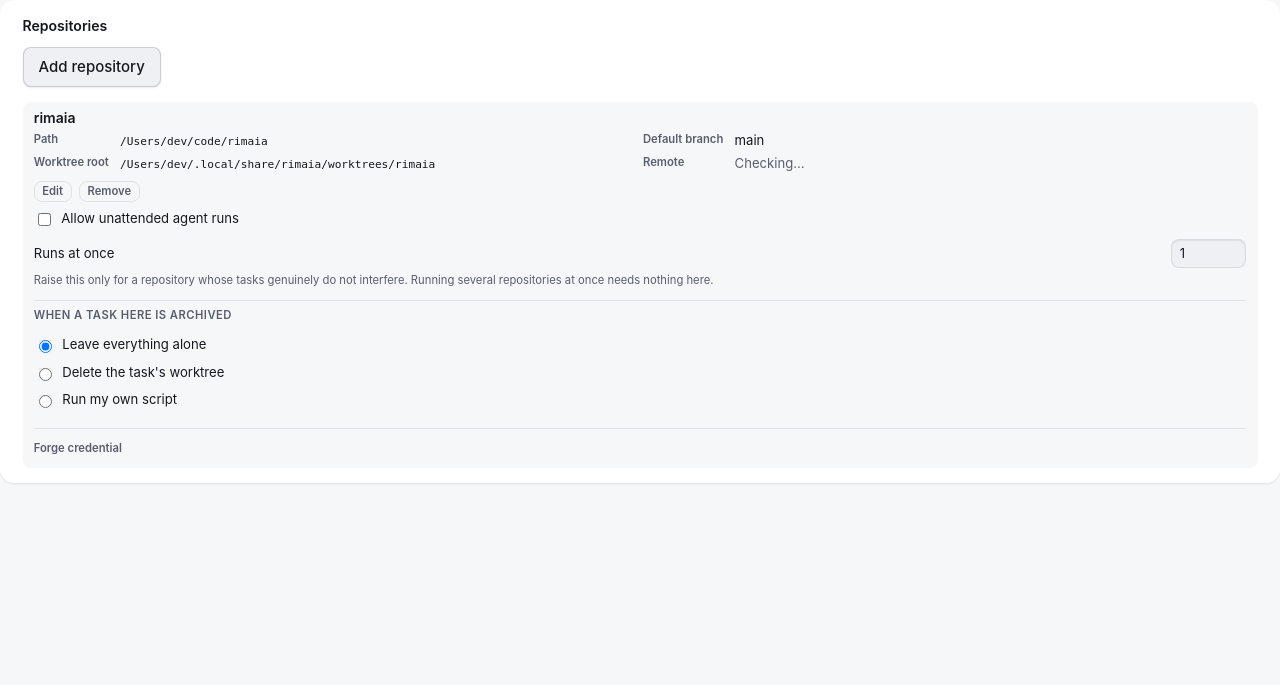
Scenario: RepositoriesSection › writes the per-repository cap and warns about what two agents in one repository share
The width and height of the screenshot is (1280, 685).
Replace the text in the number field labelled "Runs at once" with "2" at point(1209, 253), box x1=1171 y1=239 x2=1246 y2=268
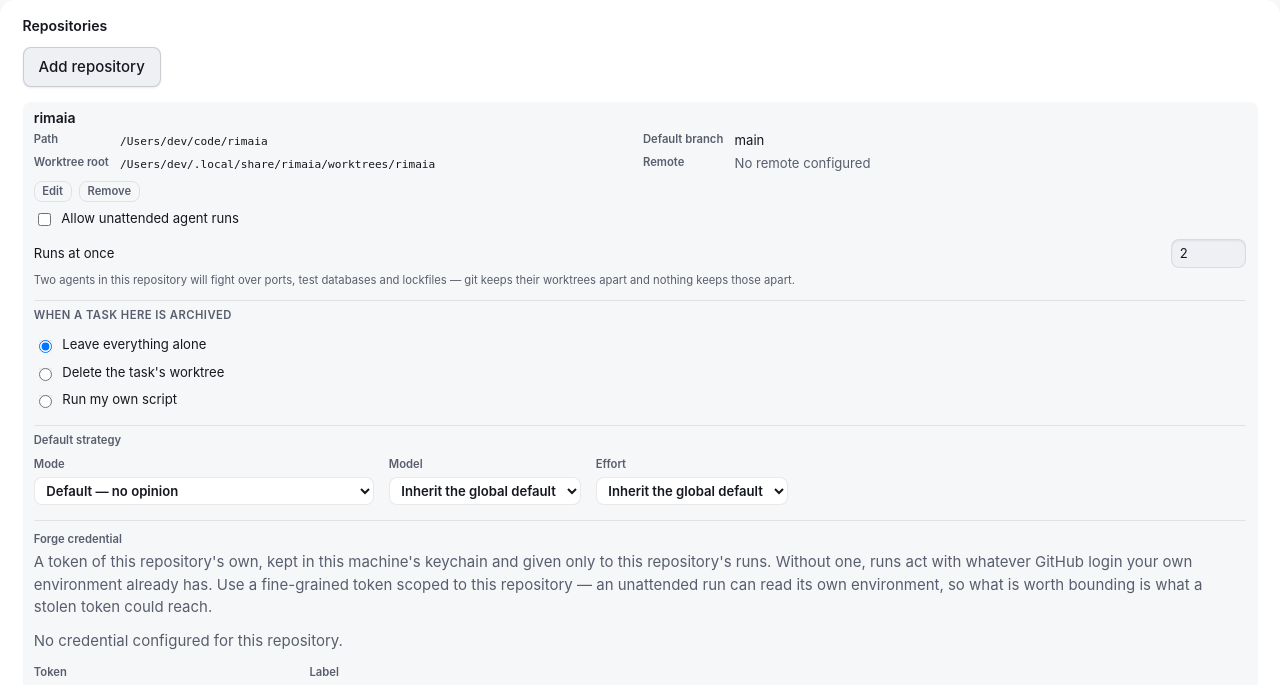
Expected: the text "fight over ports, test databases and lockfiles" is shown, x1=34 y1=273 x2=795 y2=287
